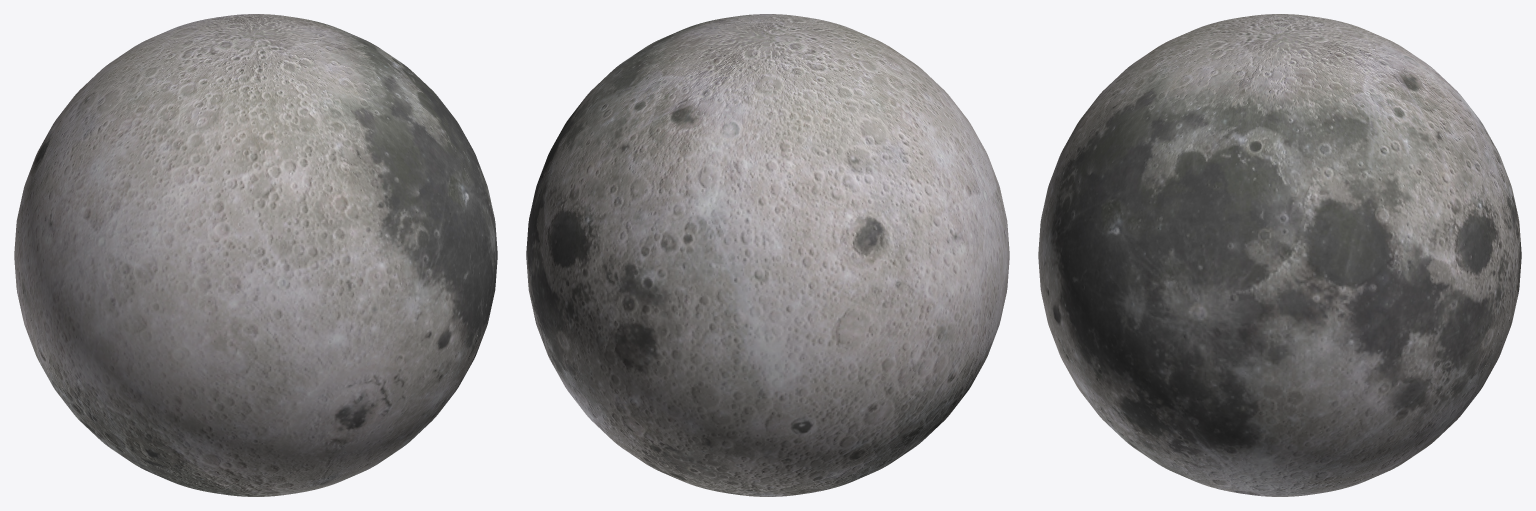
The model's file is moon.obj.
3 renders of one model, left to right at view 1: azimuth 30°, elevation 25°; view 2: azimuth 150°, elevation 25°; view 3: azimuth 270°, elevation 25°, orthographic.
Visible parts, largest first — view 1: Object_78; view 2: Object_78; view 3: Object_78.
Part boxes in pixels (x1,y1,x2,y2): Object_78: (14,14,497,496); Object_78: (526,14,1009,496); Object_78: (1038,14,1521,496).
Size of the model in its own units: 40.85 by 40.85 by 40.85.
Materials: 1 (1 with a texture image).
